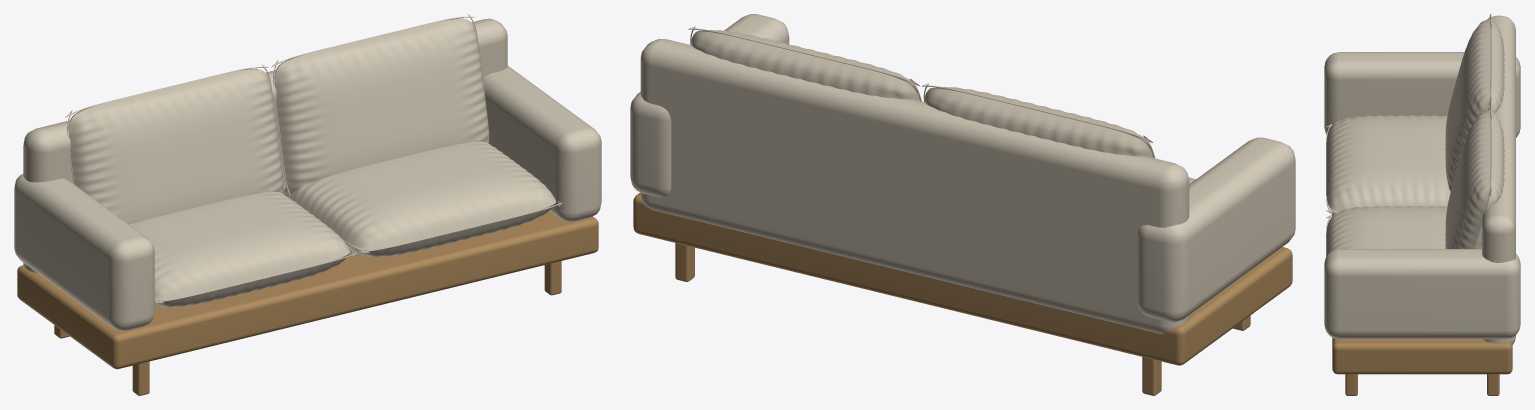
File: sofa.glb
The picture shows the model from 3 angles, left to right: view 1: azimuth 30°, elevation 25°; view 2: azimuth 150°, elevation 25°; view 3: azimuth 270°, elevation 25°; orthographic projection. The views are drawn at different scales.
Parts seen in each view (by area): view 1: socle, dossier.001, dossier, assise.001, assise, accoudoir, accoudoir.001, dossier_structure, dossier_passepoil.001, pied.002, pied, dossier_passepoil; view 2: dossier_structure, socle, accoudoir, dossier.001, dossier, accoudoir.001, pied.001, pied.003; view 3: accoudoir.001, assise, accoudoir, socle, dossier.001, dossier, assise.001, dossier_structure, pied.002, pied.003, dossier_passepoil.001, dossier_passepoil.
Part boxes in pixels (x1,y1,x2,y2): socle: [17, 211, 598, 369]; dossier.001: [274, 18, 489, 193]; dossier: [68, 69, 283, 224]; assise.001: [284, 141, 555, 256]; assise: [129, 192, 349, 307]; accoudoir: [14, 174, 154, 331]; accoudoir.001: [483, 66, 601, 221]; dossier_structure: [23, 18, 507, 273]; dossier_passepoil.001: [271, 14, 484, 196]; pied.002: [544, 261, 561, 295]; pied: [132, 361, 149, 395]; dossier_passepoil: [65, 64, 284, 194]; dossier_structure: [640, 39, 1189, 333]; socle: [633, 192, 1292, 365]; accoudoir: [1137, 137, 1295, 322]; dossier.001: [691, 30, 921, 100]; dossier: [924, 87, 1153, 157]; accoudoir.001: [630, 14, 789, 197]; pied.001: [1142, 357, 1161, 395]; pied.003: [675, 243, 694, 281]; accoudoir.001: [1324, 249, 1520, 339]; assise: [1326, 115, 1450, 213]; accoudoir: [1324, 52, 1520, 137]; socle: [1332, 213, 1512, 374]; dossier.001: [1445, 109, 1504, 248]; dossier: [1445, 18, 1504, 191]; assise.001: [1326, 206, 1481, 255]; dossier_structure: [1482, 15, 1515, 344]; pied.002: [1345, 374, 1357, 395]; pied.003: [1487, 374, 1499, 395]; dossier_passepoil.001: [1475, 104, 1491, 248]; dossier_passepoil: [1488, 14, 1491, 109].
Size of the model in its own units: 2.24 by 0.9784 by 0.86.
